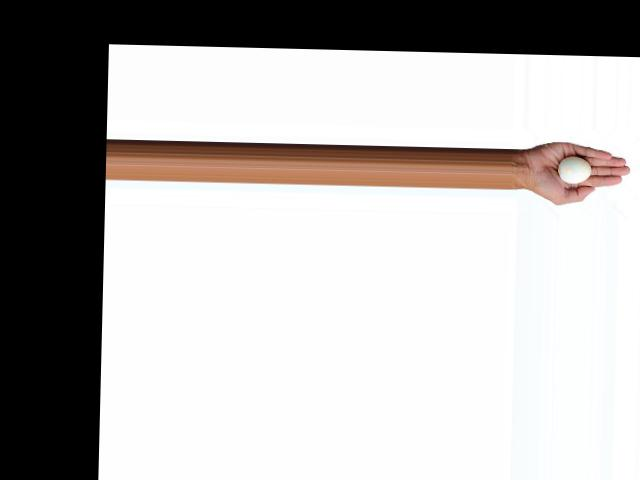egg: (558, 156, 592, 183)
